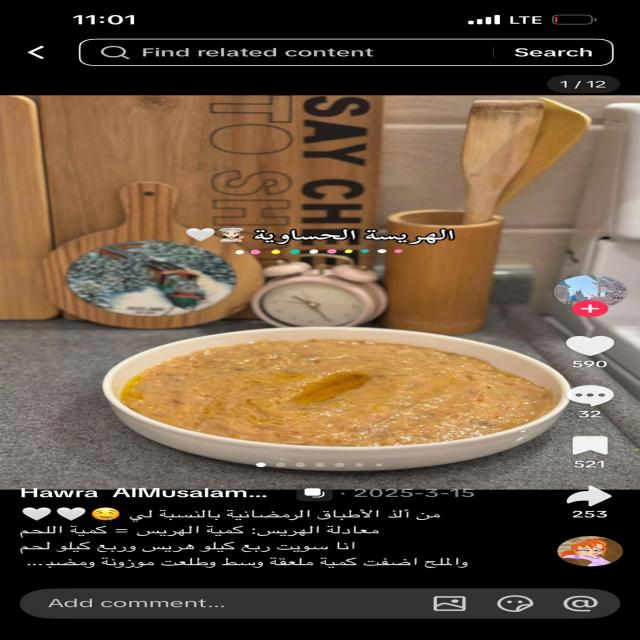Harees: (118, 326, 568, 454)
